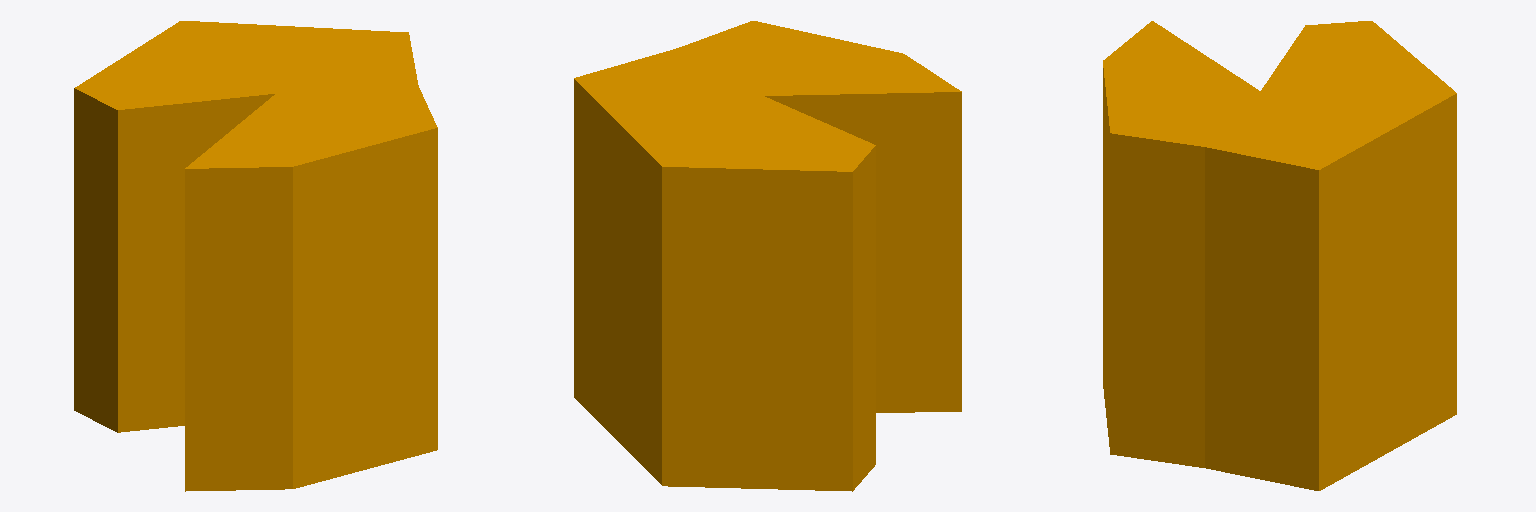
The robot description file, URDF, robot "object":
<?xml version="1.0"?>
<robot name="object">
  <link name="object">
    <visual>
      <origin xyz="0 0 0"/>
      <geometry>
        <mesh filename="meshes/polygon/poly_104_s.obj" scale=".03 .03 .03"/>
      </geometry>
    </visual>
    <collision>
  <origin xyz="0 0 0"/>
  <geometry>
    <mesh filename="meshes/polygon/poly_104_s_0decompose.obj" scale=".03 .03 .03"/>
<!--          <mesh filename="meshes/custom/obj0_ball.obj" scale=".05 .05 .05"/>-->
  </geometry>
</collision><collision>
  <origin xyz="0 0 0"/>
  <geometry>
    <mesh filename="meshes/polygon/poly_104_s_1decompose.obj" scale=".03 .03 .03"/>
<!--          <mesh filename="meshes/custom/obj0_ball.obj" scale=".05 .05 .05"/>-->
  </geometry>
</collision>

<!--    <collision>-->
<!--      <origin xyz="0 0 0"/>-->
<!--      <geometry>-->
<!--        <mesh filename="meshes/polygon/poly_104_s.obj" scale=".03 .03 .03"/>-->
<!--&lt;!&ndash;          <mesh filename="meshes/custom/obj0_ball.obj" scale=".05 .05 .05"/>&ndash;&gt;-->
<!--      </geometry>-->
<!--    </collision>-->
    <inertial>
      <density value="1000.0"/>
    </inertial>
  </link>
</robot>

--- Render facts (derived) ---
The picture shows the robot from 3 angles, left to right: view 1: azimuth 30°, elevation 25°; view 2: azimuth 150°, elevation 25°; view 3: azimuth 270°, elevation 25°; orthographic projection.
Model object with 1 links and 0 joints (none), rooted at object, posed every joint at zero.
Links seen in each view (by area): view 1: object; view 2: object; view 3: object.
Link boxes in pixels (x1,y1,x2,y2): object: [74, 21, 437, 491]; object: [574, 21, 961, 491]; object: [1103, 21, 1456, 490].
Size in the robot's own frame: 0.06 by 0.06 by 0.06 metres.
Meshes: 1 distinct files referenced, 1 mesh visuals loaded (1 OBJ).
